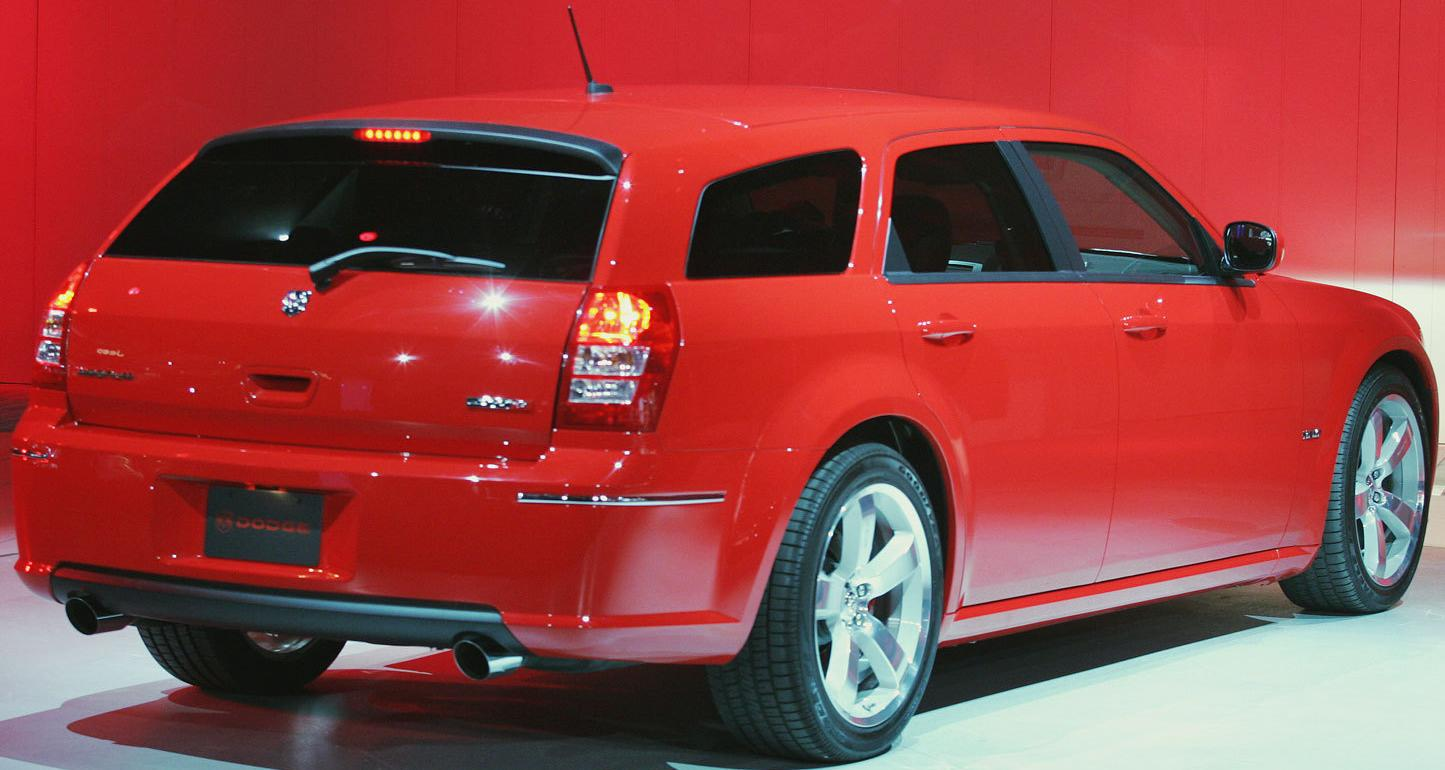back_view: (26, 263, 710, 646)
backlight: (560, 264, 687, 490)
side_glass: (863, 135, 1254, 300)
